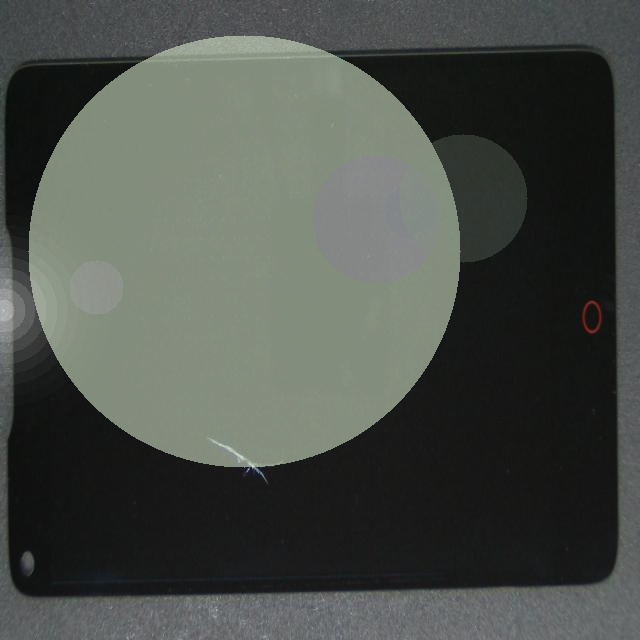scratch: (147, 225, 354, 640)
